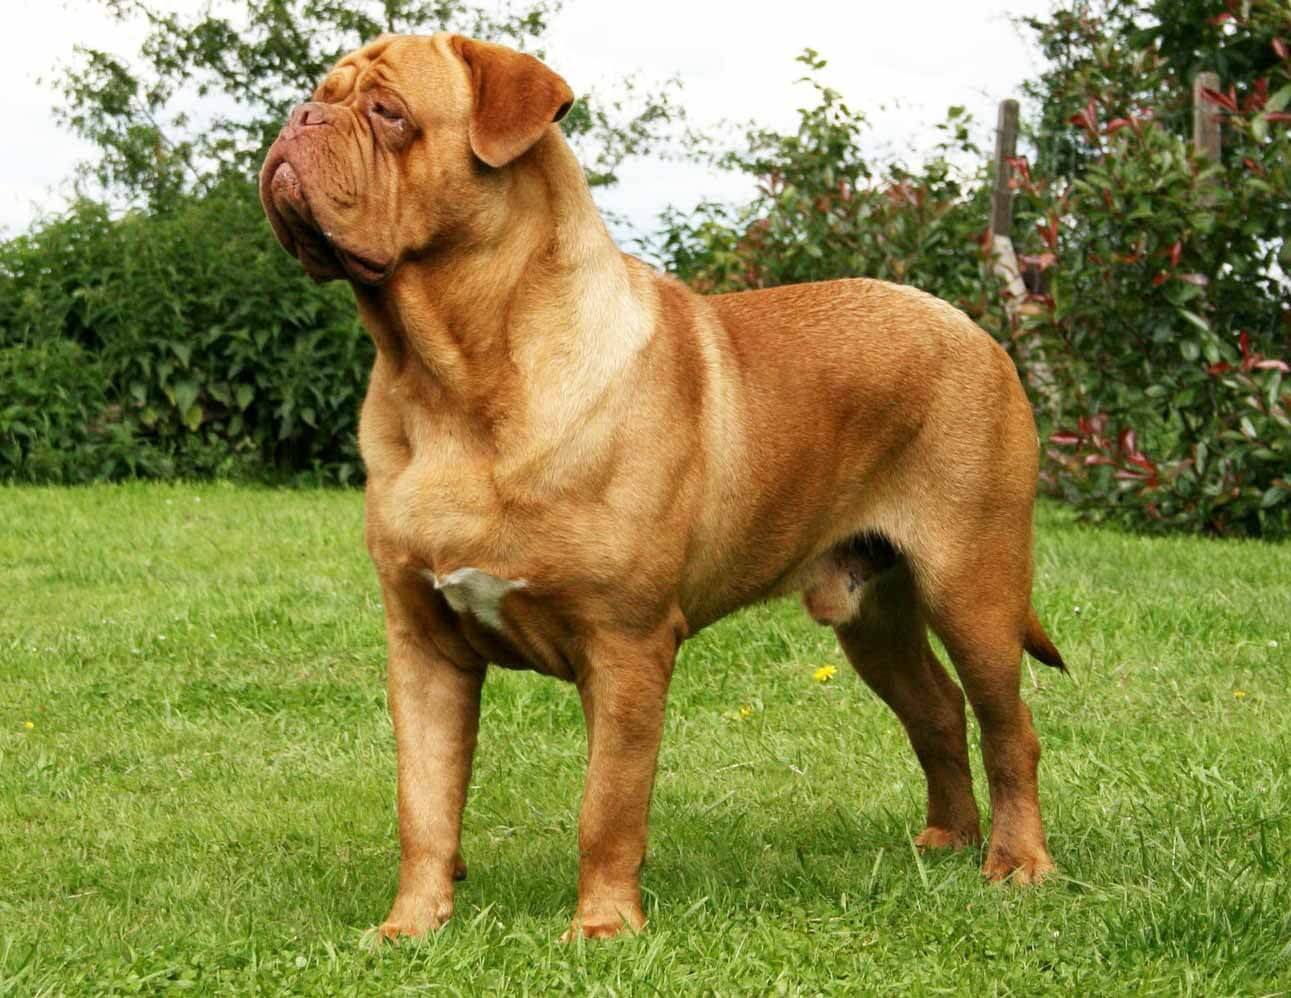dogue_de_bordeaux: (257, 32, 1069, 946)
